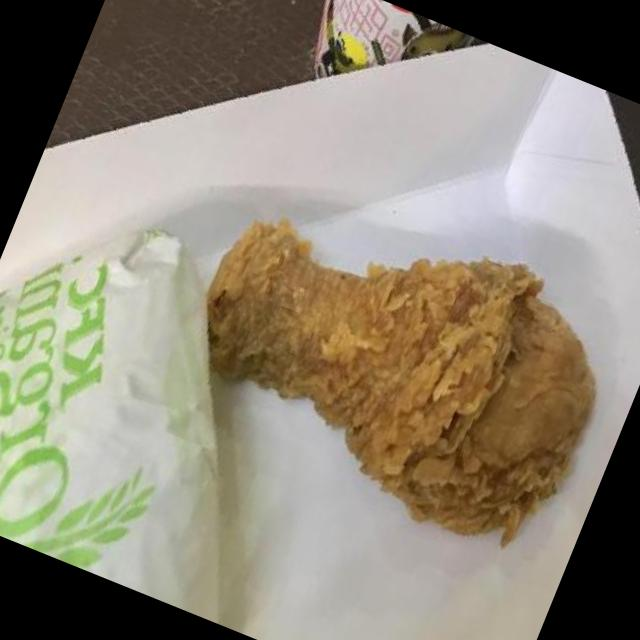Fried Chicken: (204, 220, 596, 548)
